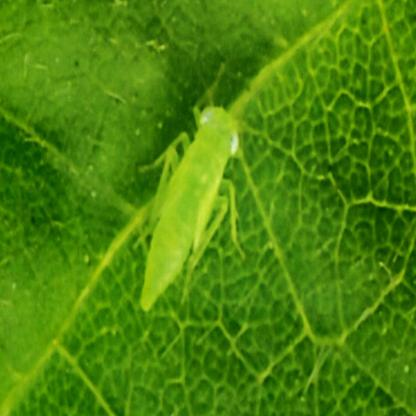Green-Leafhopper: (136, 65, 245, 310)
